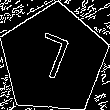L_S: (31, 31, 77, 88)
